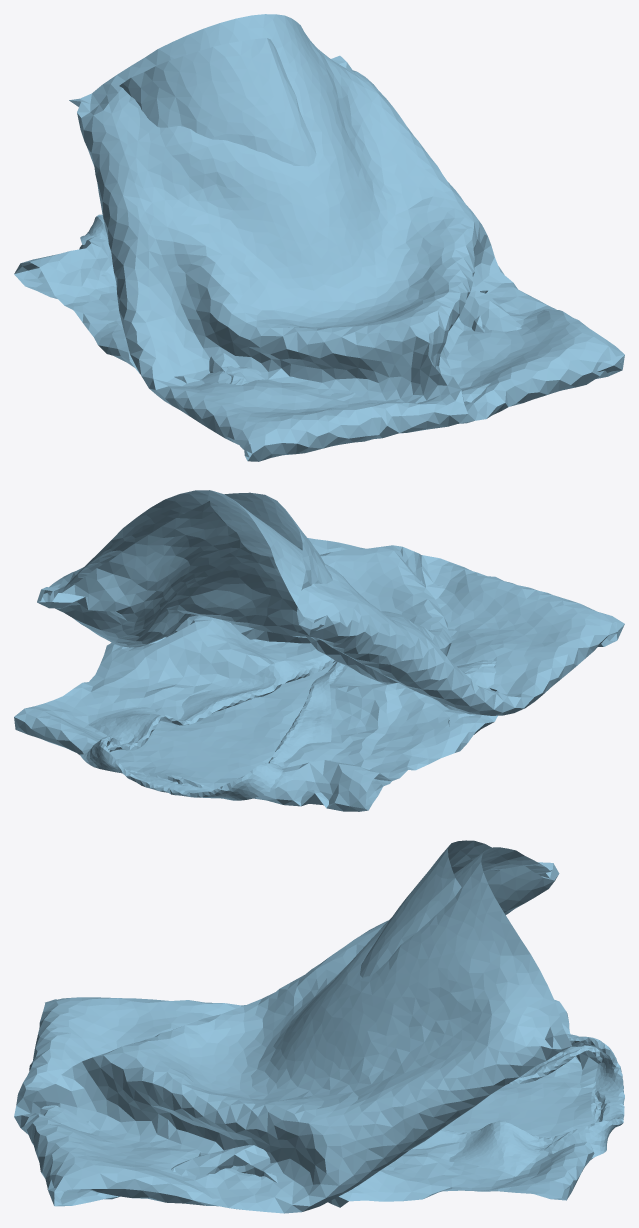
The model's file is frame_19.glb.
3 renders of one model, top to bottom at view 1: azimuth 30°, elevation 25°; view 2: azimuth 150°, elevation 25°; view 3: azimuth 270°, elevation 25°, orthographic. The views are drawn at different scales.
Parts seen in each view (by area): view 1: frame_19.obj; view 2: frame_19.obj; view 3: frame_19.obj.
Part boxes in pixels (<box>): frame_19.obj: <box>14,14,624,461</box>; frame_19.obj: <box>14,490,624,811</box>; frame_19.obj: <box>14,840,624,1213</box>.
Size of the model in its own units: 0.6365 by 0.4017 by 0.8311.
